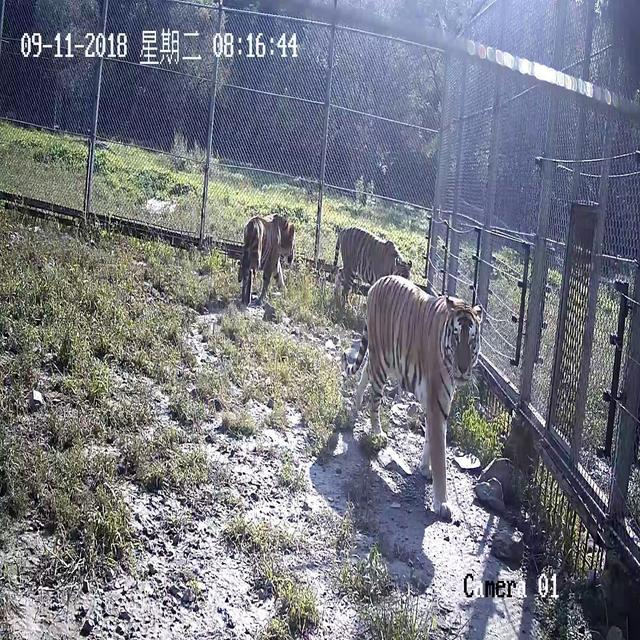tiger: (346, 273, 484, 520), (330, 226, 412, 310), (237, 212, 295, 305)
